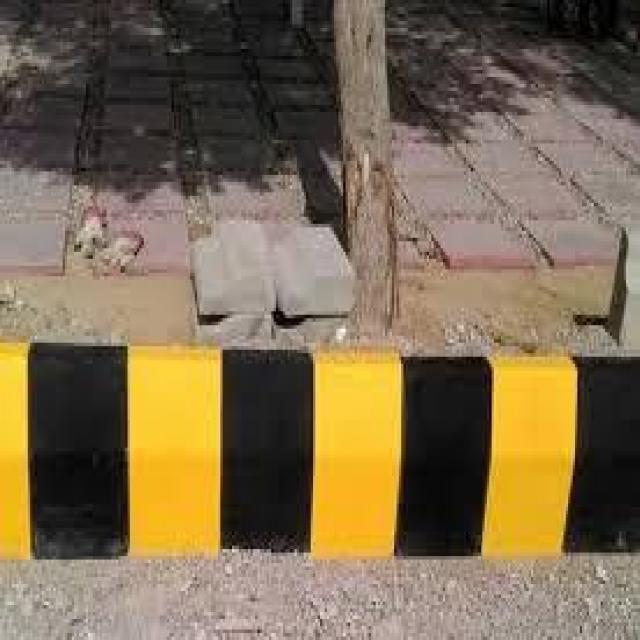curb: (1, 344, 640, 560)
